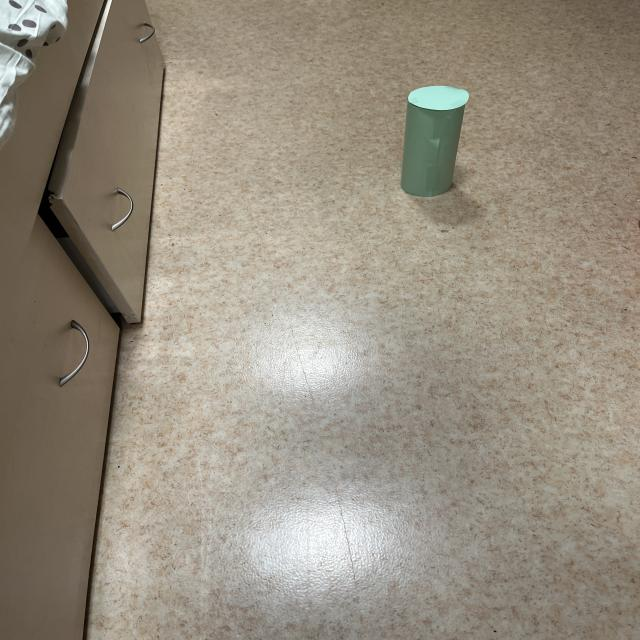meta: (401, 86, 469, 197)
